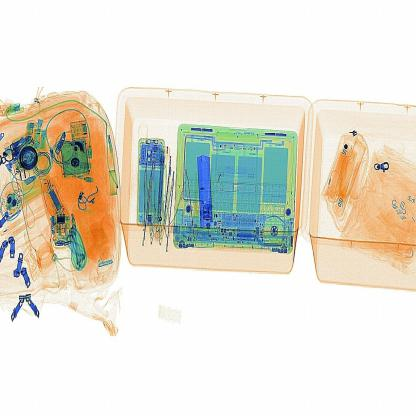pliers: (187, 148, 224, 242)
